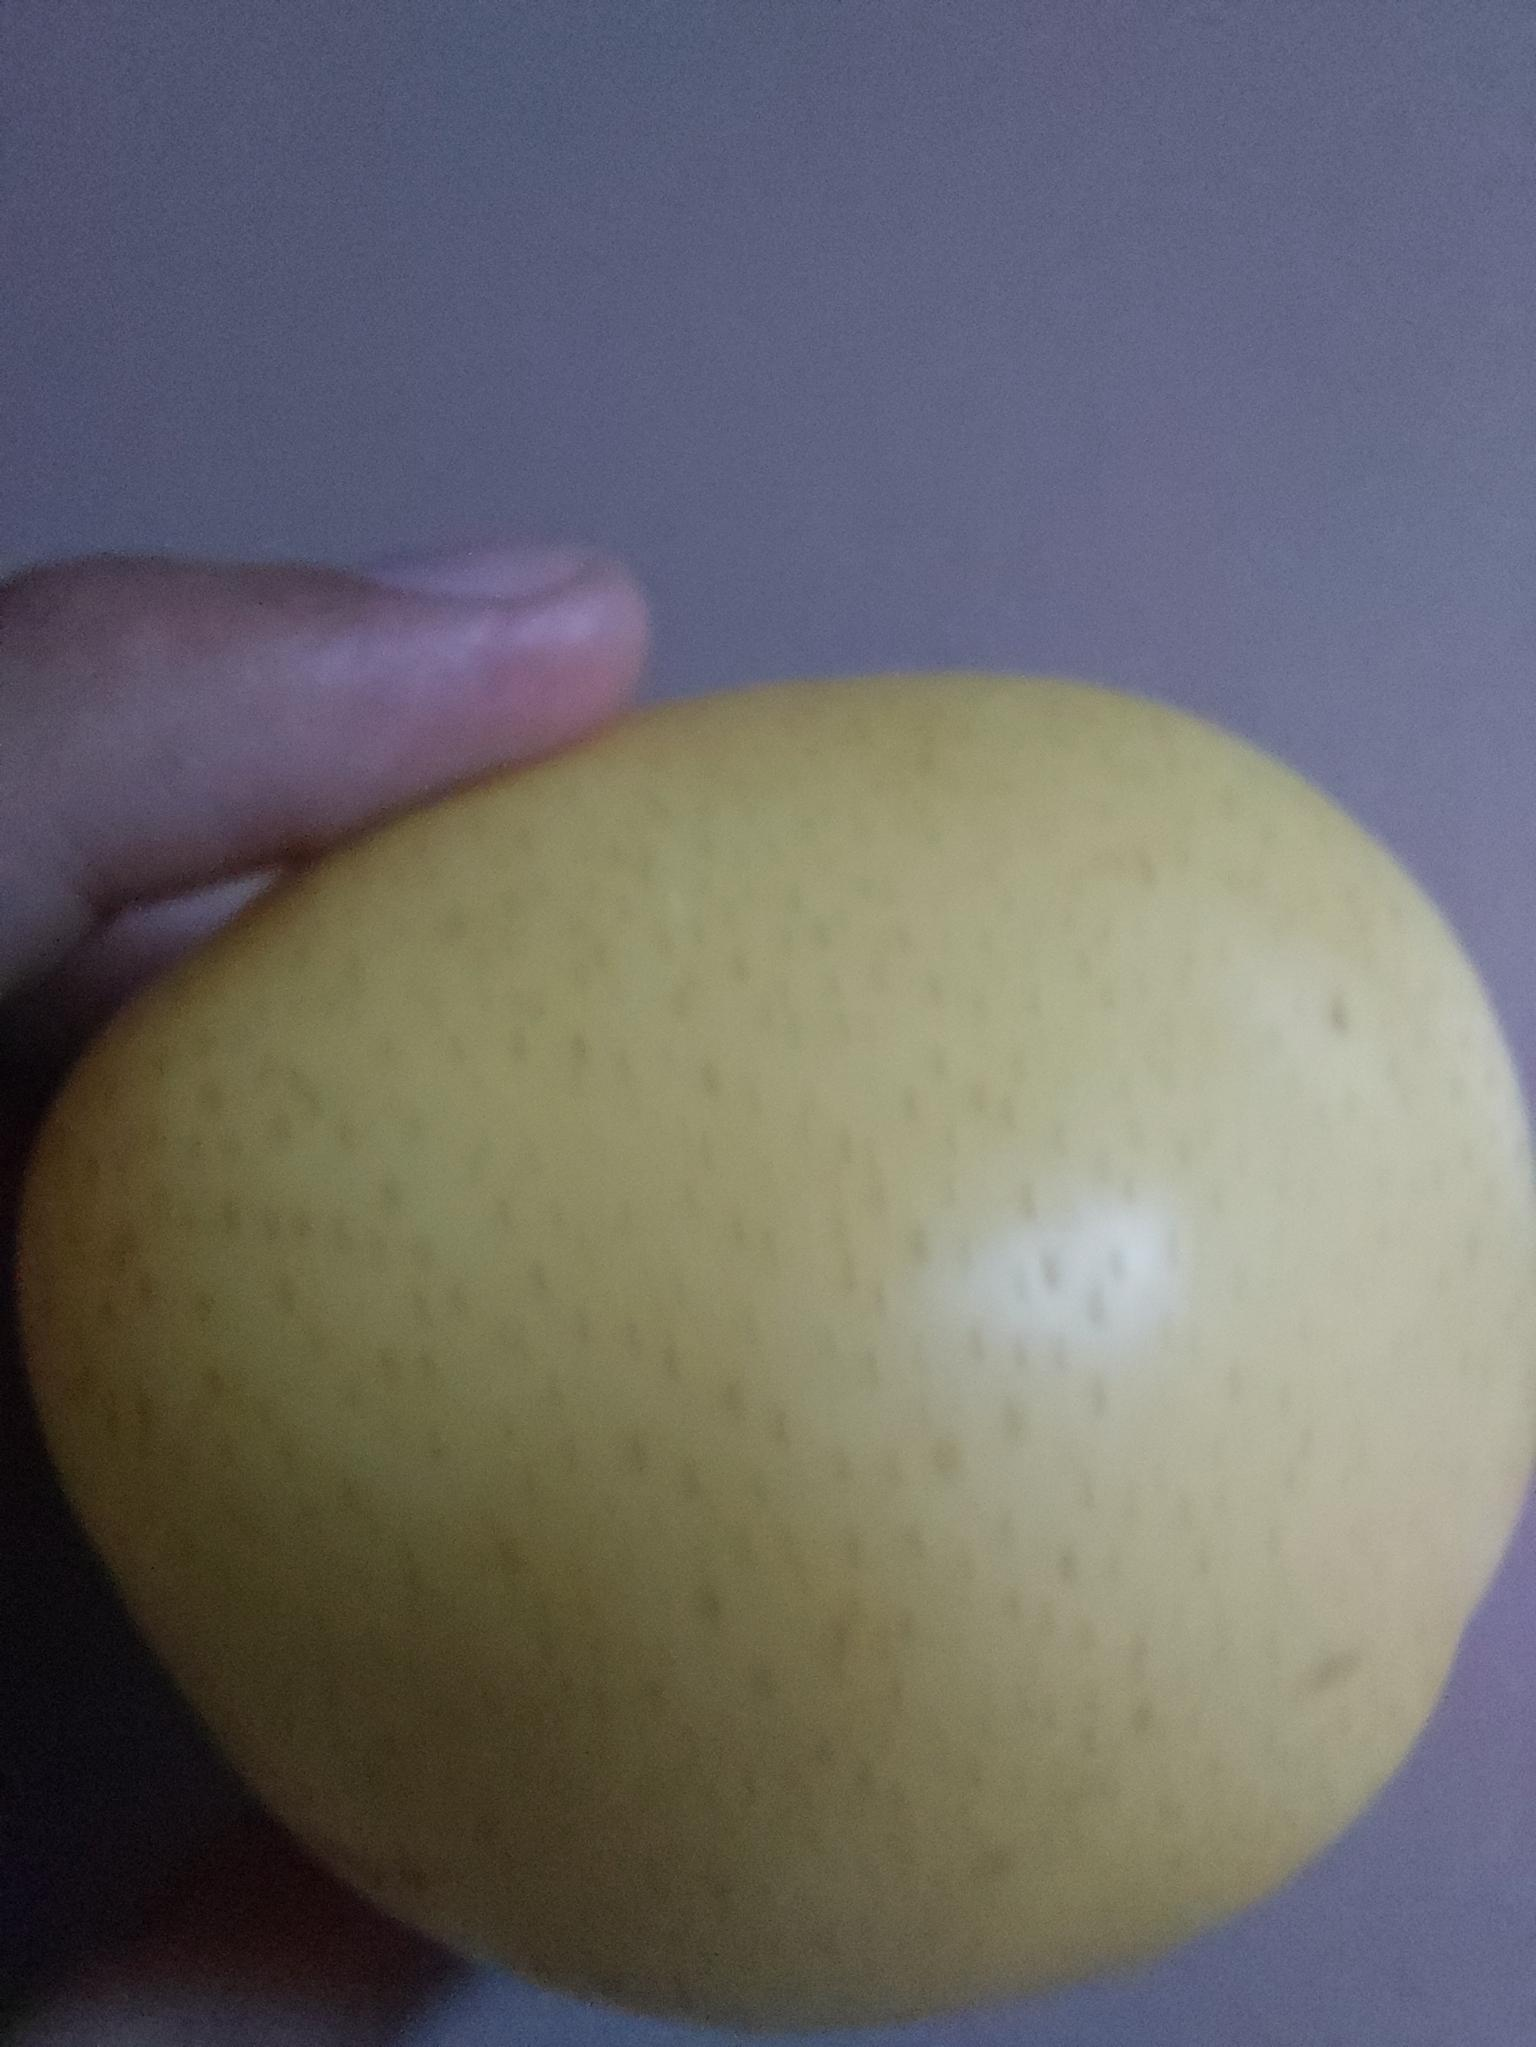Good Pear: (12, 892, 1534, 2016)
